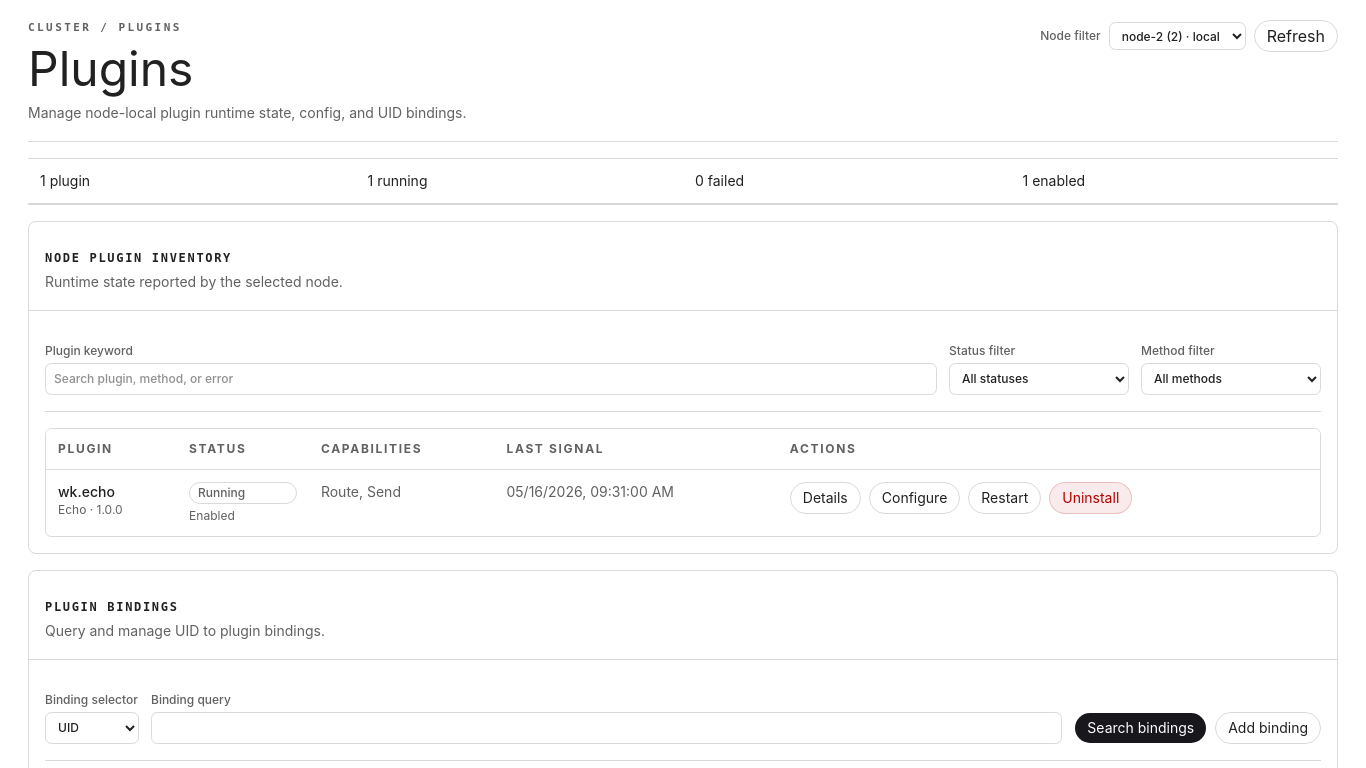
confirms plugin uninstall and refreshes inventory
Expected: the text "wk.echo" is shown, [58, 482, 115, 500]
Click the button with aria-label "Uninstall plugin wk.echo" at (1091, 498), box [1049, 482, 1132, 514]
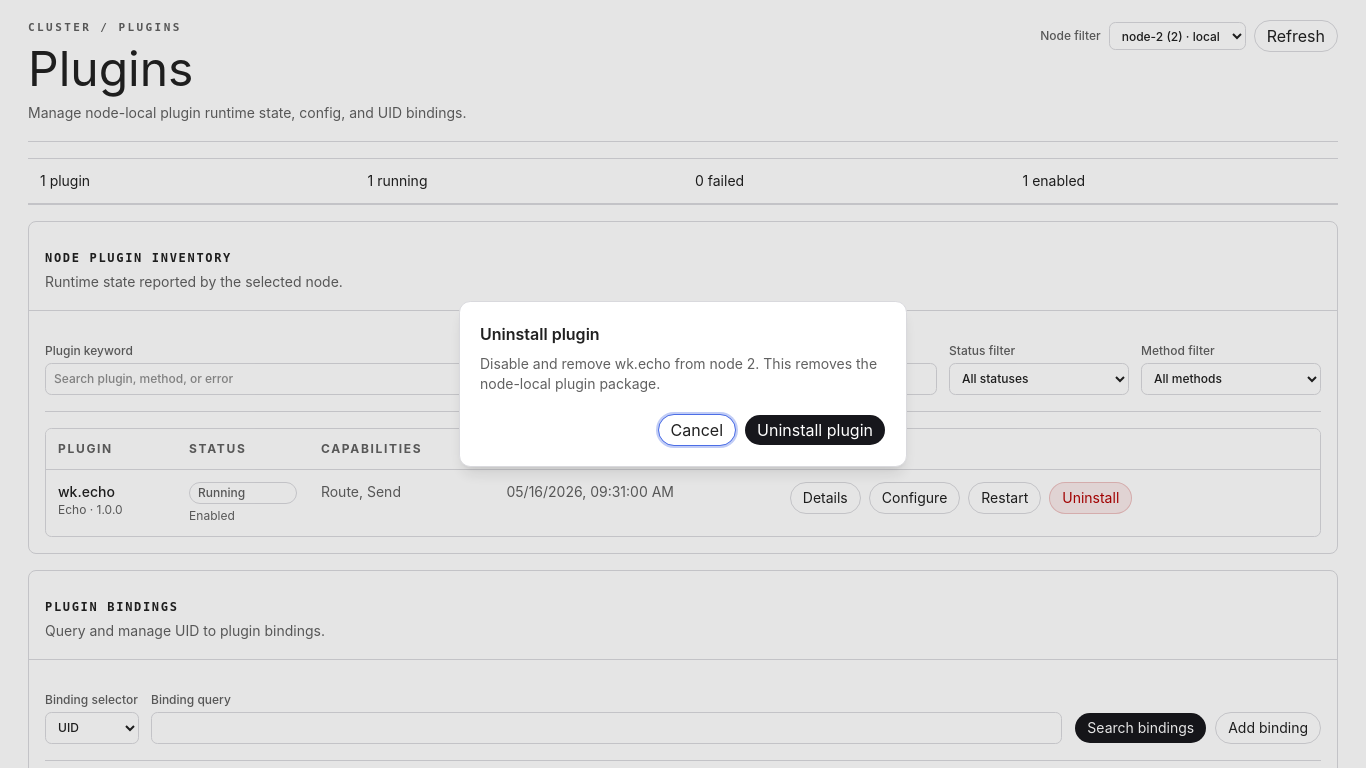
Click the button "Uninstall plugin" at (815, 430), box [744, 414, 886, 446]
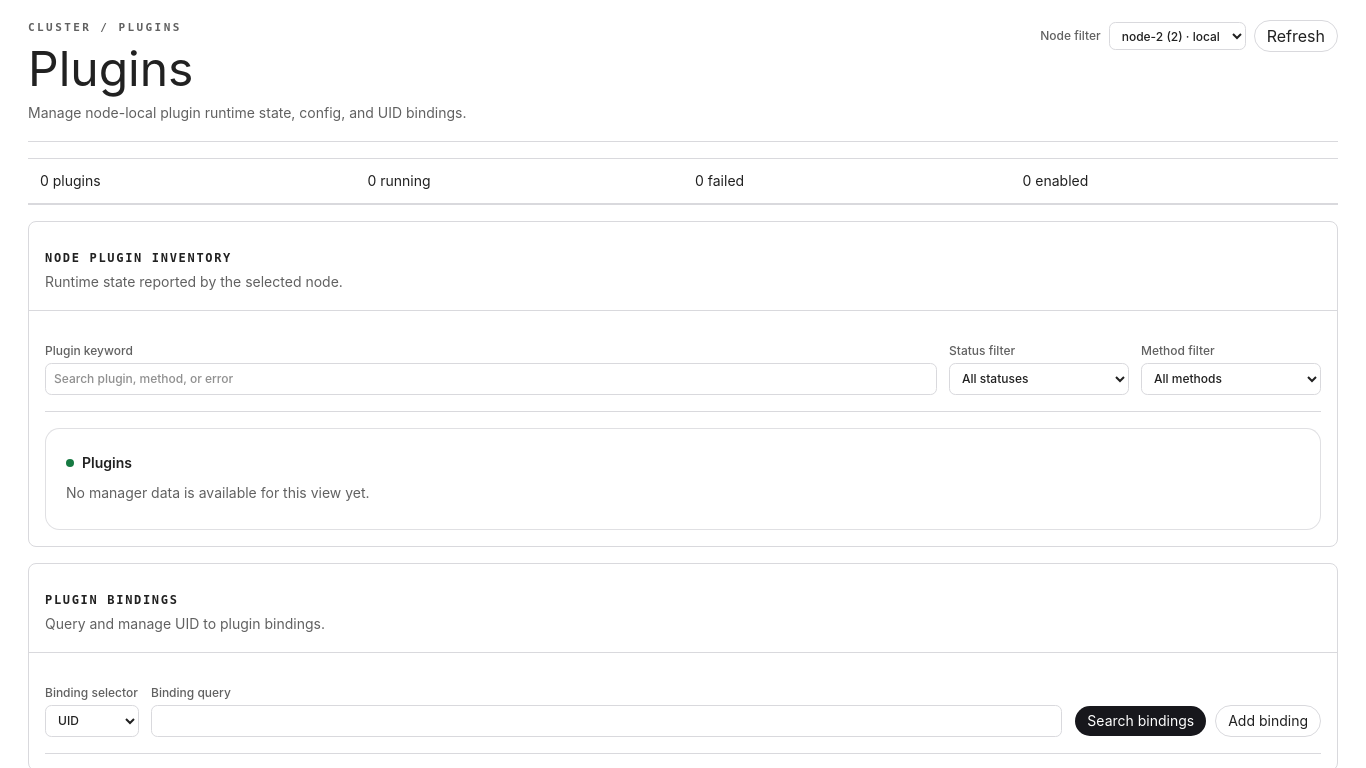
Now the text "No manager data is available for this view yet." is shown, box [66, 484, 370, 500]
